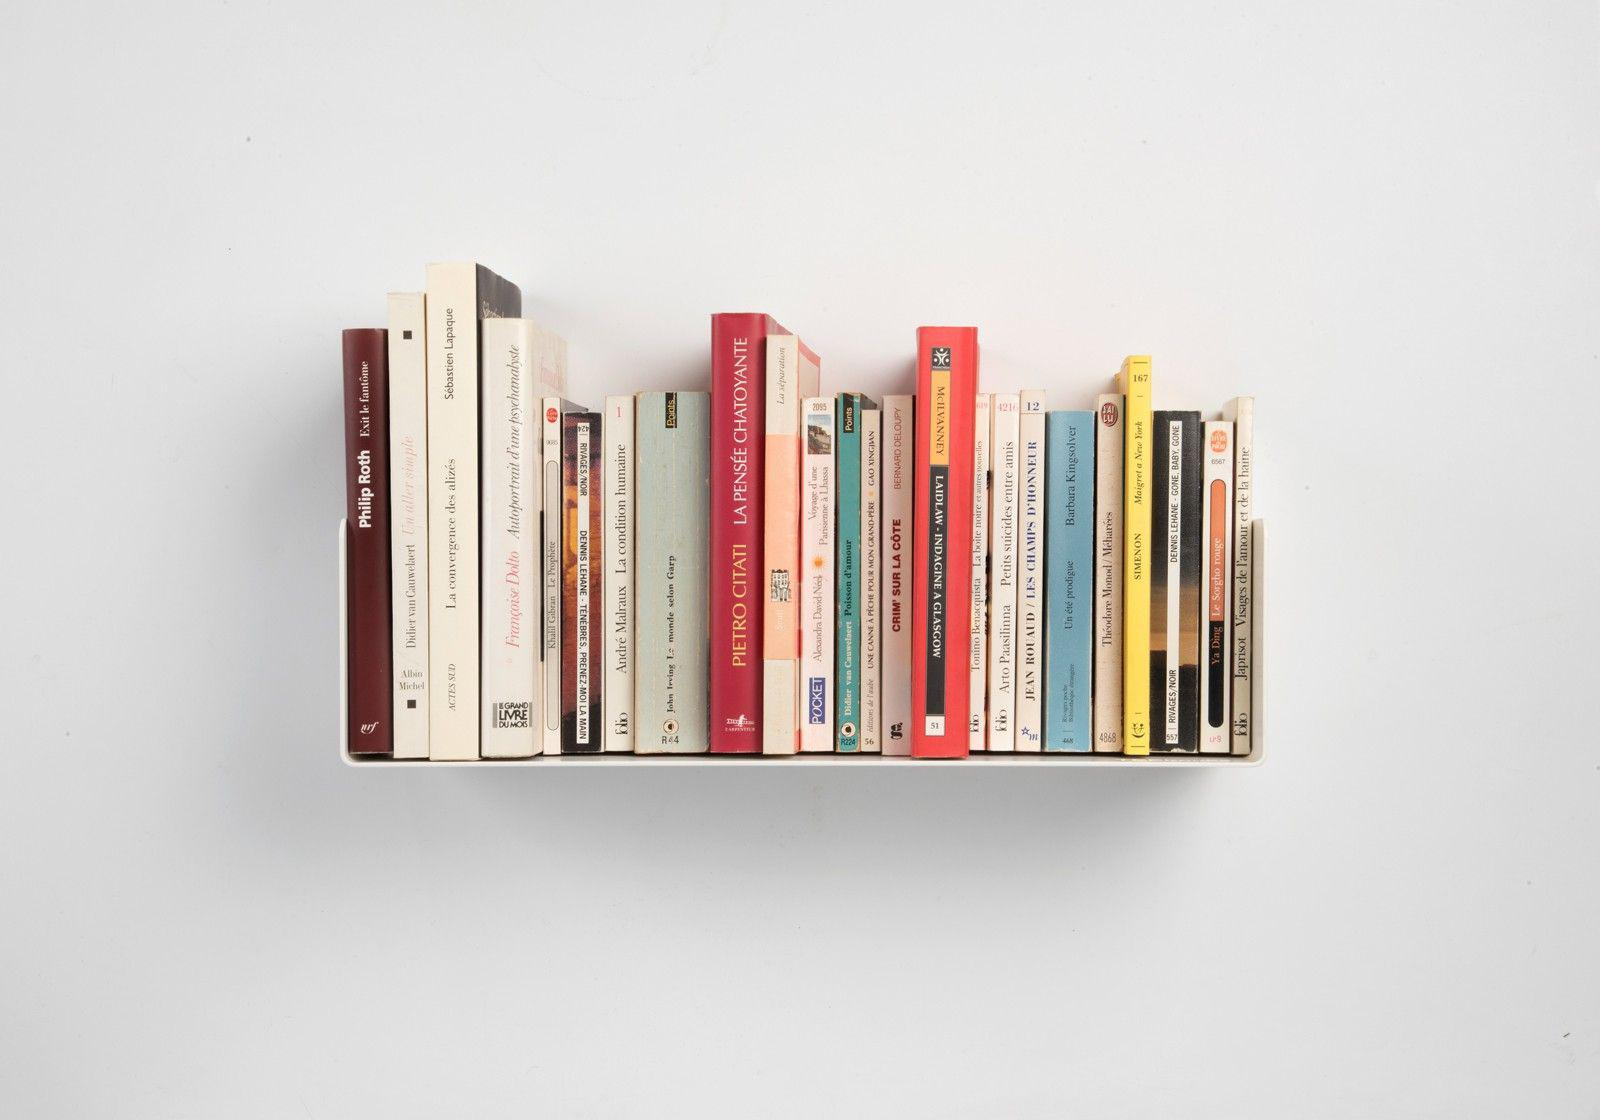book: (641, 403, 708, 755), (430, 268, 473, 756), (484, 330, 526, 750), (922, 334, 964, 742), (719, 323, 755, 754), (347, 334, 384, 748), (567, 420, 605, 753), (399, 306, 423, 750), (1160, 422, 1191, 749), (1052, 418, 1082, 756), (770, 342, 789, 756), (1131, 368, 1148, 758), (810, 407, 828, 752), (612, 405, 629, 752), (1207, 434, 1224, 753), (1234, 404, 1247, 754), (844, 406, 856, 756), (1024, 396, 1035, 753), (1102, 405, 1112, 754), (999, 396, 1005, 756)
